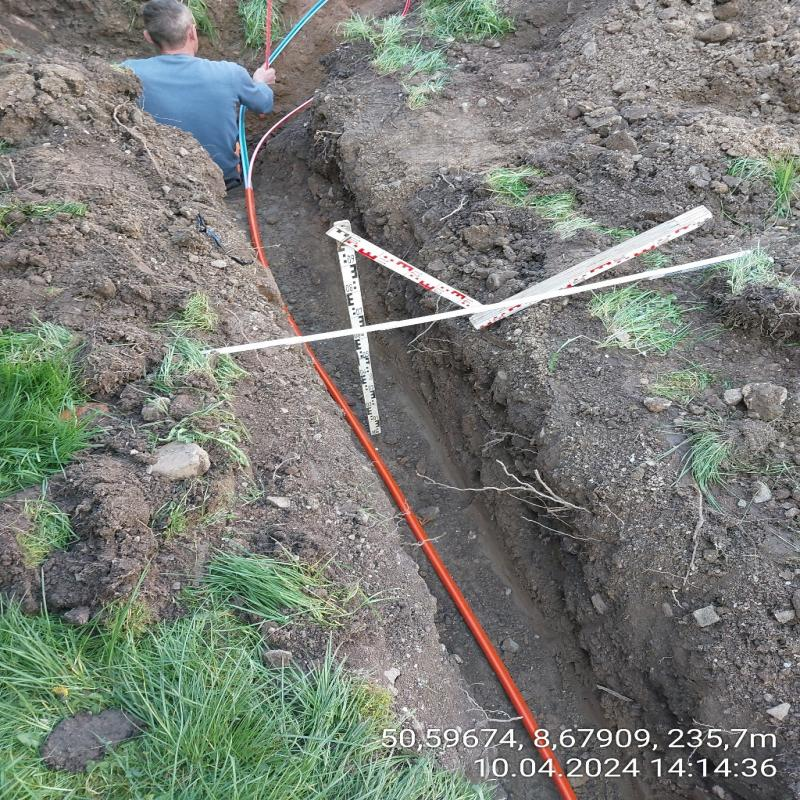Orang-Speednetrohrchen: (301, 343, 539, 731)
